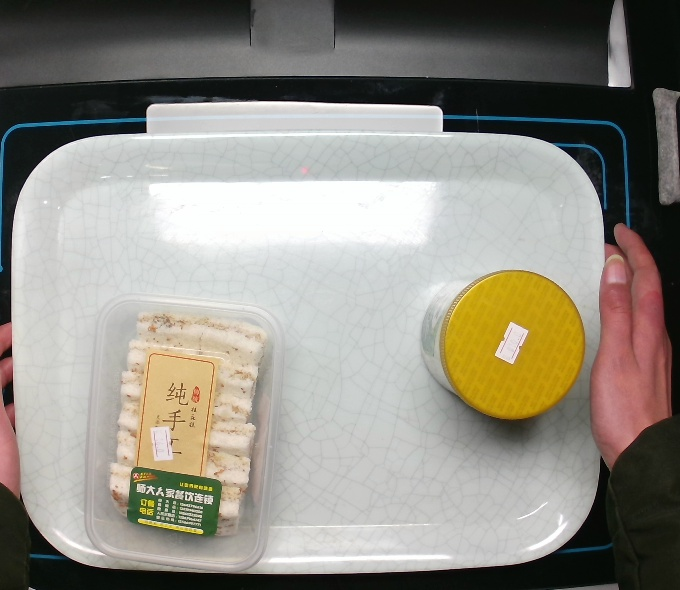wcq-GuiHuaGao: (81, 292, 286, 576)
wcq-MaiYaTang: (419, 267, 587, 422)
